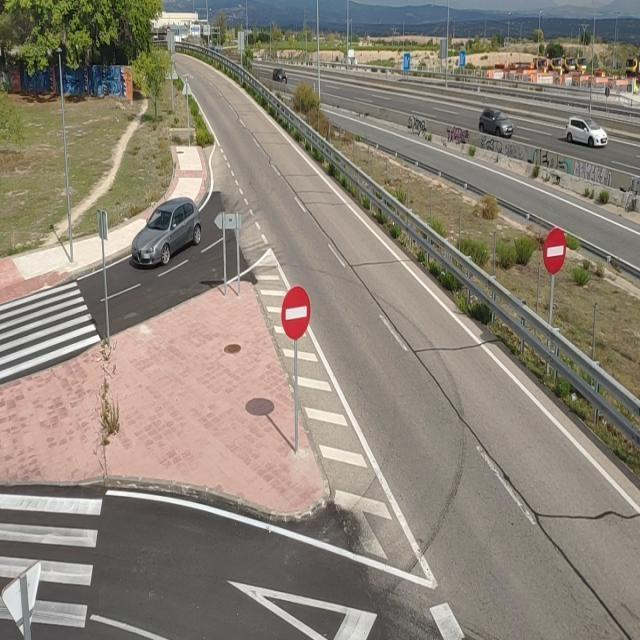Car: (129, 197, 201, 268), (564, 114, 608, 146), (479, 108, 514, 138), (271, 68, 288, 84)
